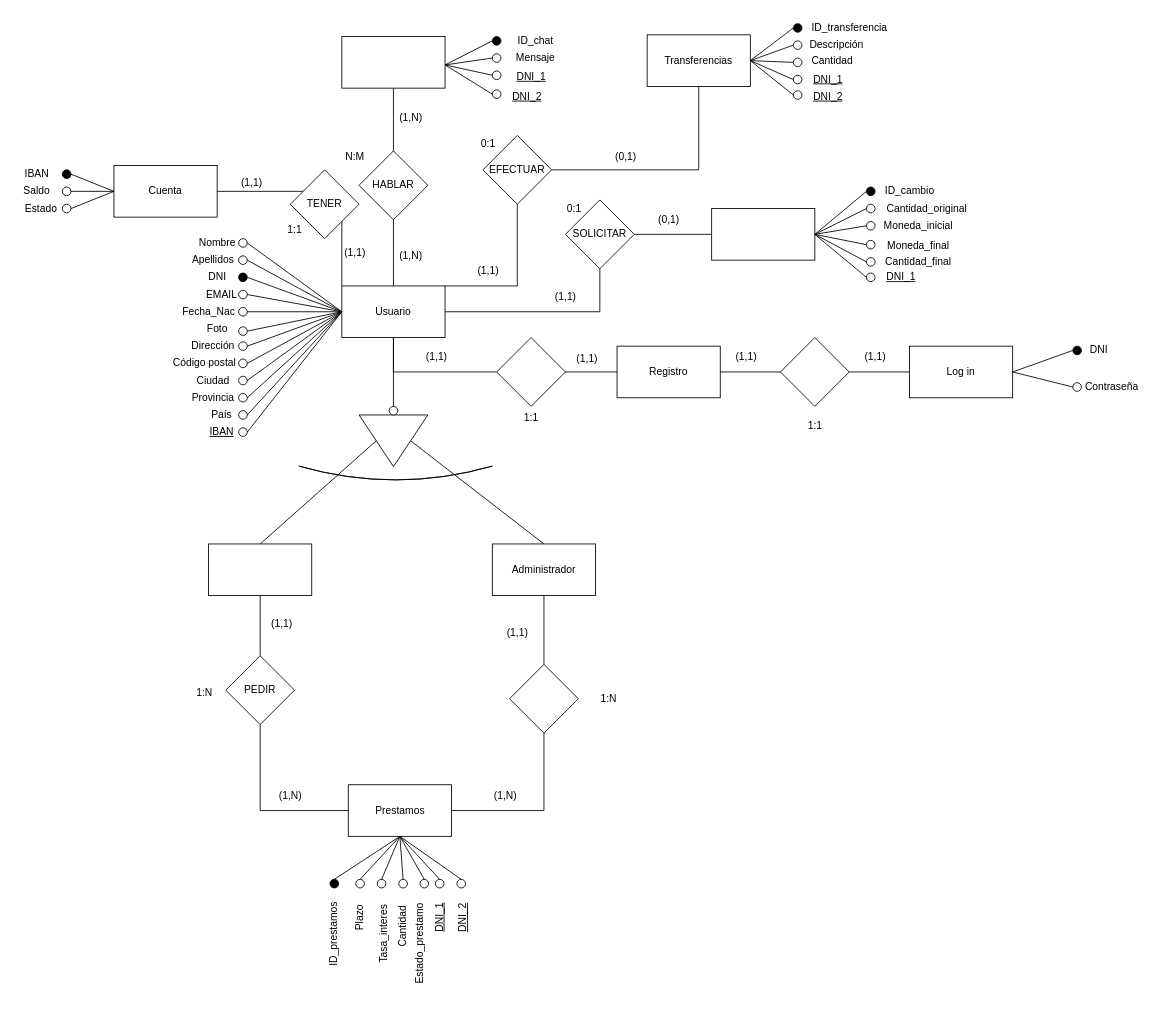
Image size: 1164x1010. Some labels were removed from this diagram. Here are the shapes that lost their labels. From the top down, the centre of each, then its label:
At (393,62): "Chat".
At (763,234): "Cambiar moneda".
At (530,371): "HACER".
At (814,371): "ACCEDER".
At (260,569): "Estandar".
At (543,698): "GESTIONAR".
